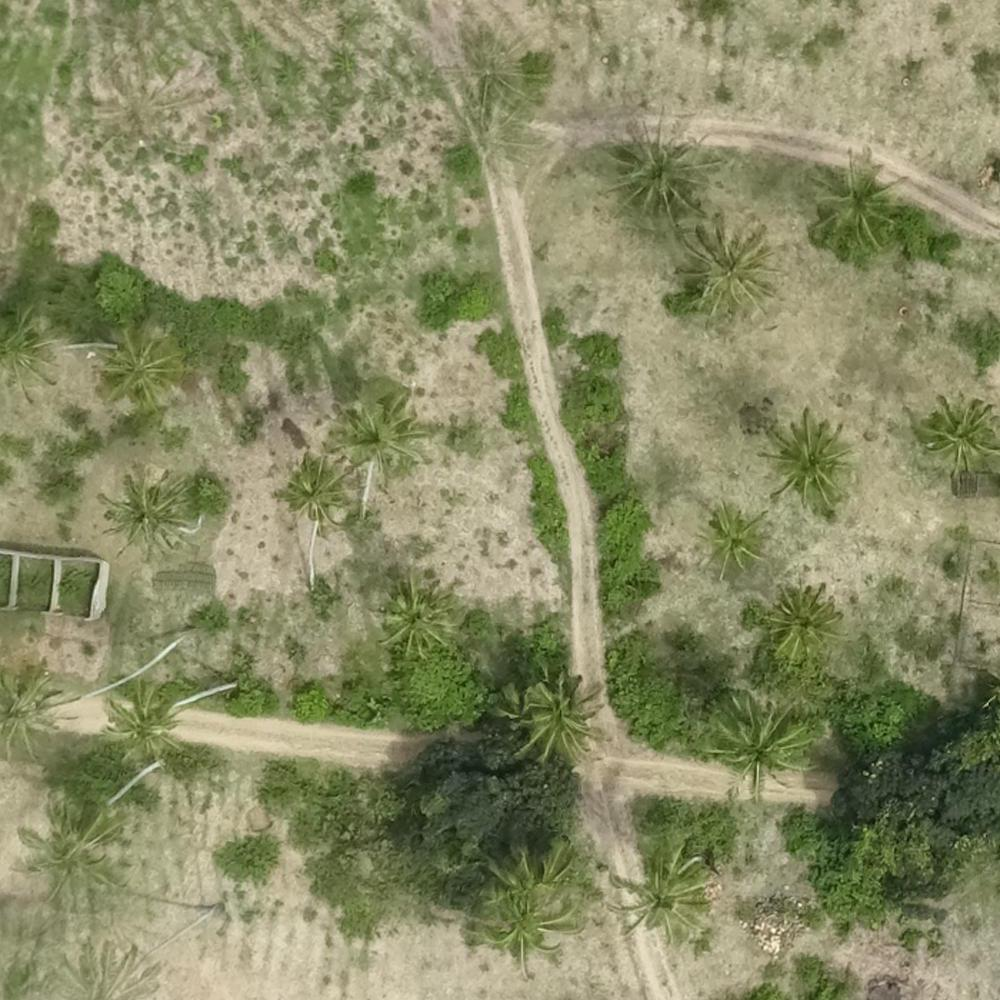Palm: (711, 695, 816, 792), (613, 117, 712, 214), (681, 222, 777, 317), (612, 850, 710, 943), (763, 416, 854, 513), (809, 156, 904, 243), (516, 679, 605, 763), (104, 473, 188, 556), (378, 574, 464, 655), (338, 397, 426, 476), (100, 684, 186, 764), (478, 894, 574, 965), (490, 834, 581, 908), (95, 331, 177, 408), (763, 584, 842, 660), (918, 398, 997, 473), (694, 506, 765, 577), (282, 454, 346, 517)
